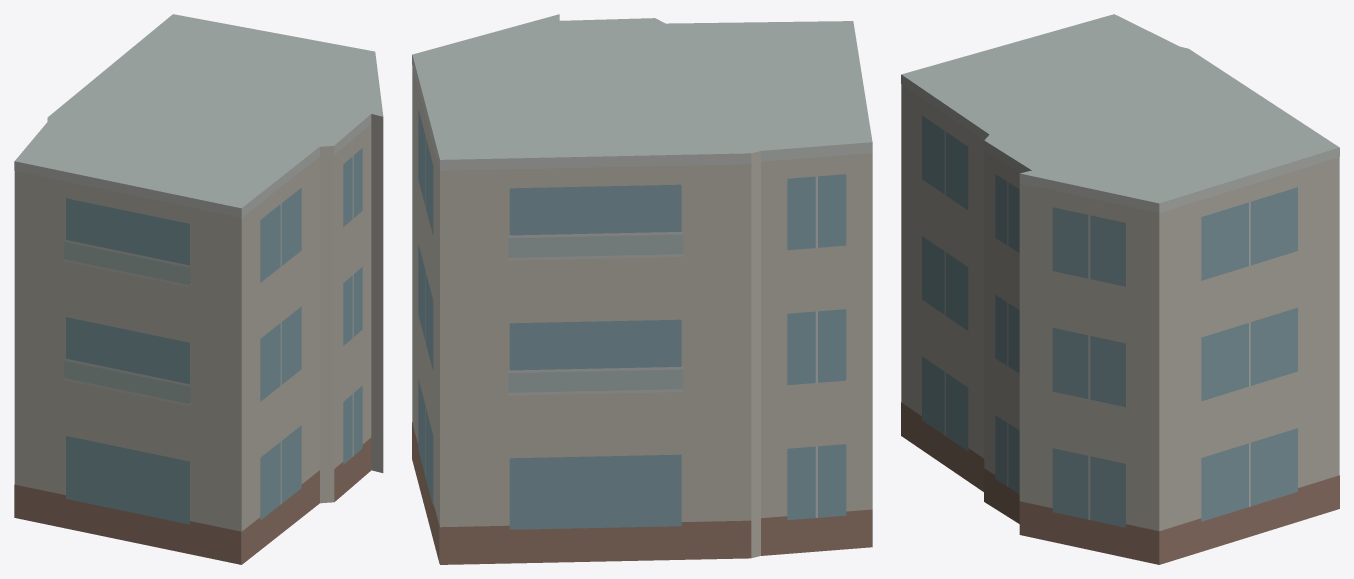
The model's file is survey-upis-32929332.glb.
3 views of the same model, side by side, from view 1: azimuth 30°, elevation 25°; view 2: azimuth 150°, elevation 25°; view 3: azimuth 270°, elevation 25° (orthographic). The views are drawn at different scales.
Visible parts, largest first — view 1: survey-upis-32929332.tmp; view 2: survey-upis-32929332.tmp; view 3: survey-upis-32929332.tmp.
Boxes of the visible parts, x1,y1,x2,y2 form: survey-upis-32929332.tmp: (14,14,383,564); survey-upis-32929332.tmp: (412,14,872,564); survey-upis-32929332.tmp: (901,14,1339,564).
Bounding box in the file's own units: 10.3 × 9.15 × 10.07.
